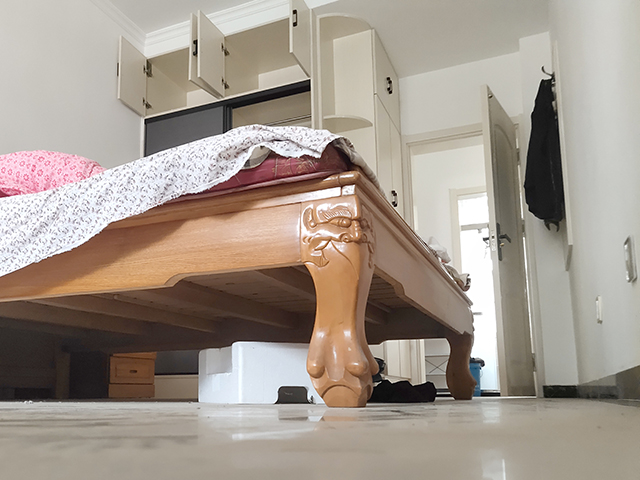bed: (1, 123, 479, 410)
cabinet: (66, 351, 159, 401)
trashcan: (469, 356, 487, 397)
